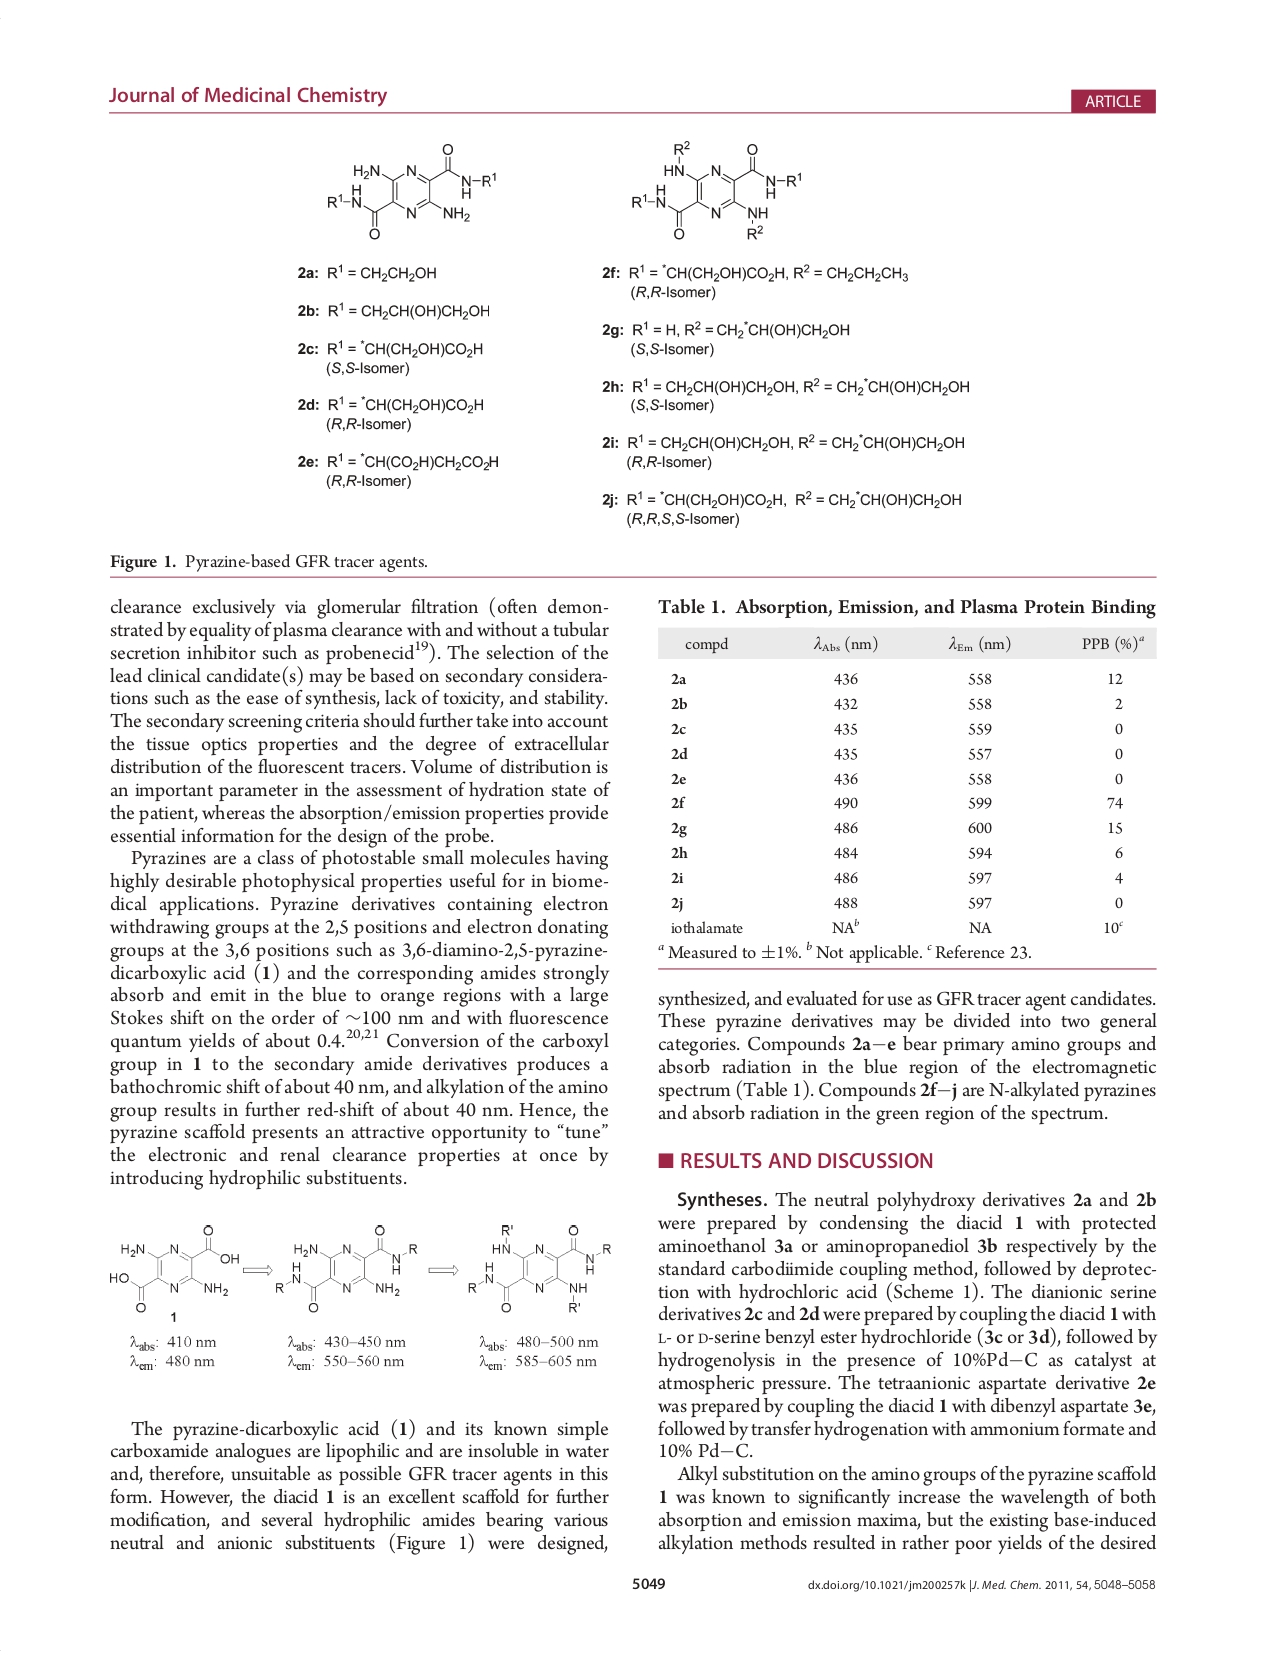exist_molecular: (626, 138, 807, 243), (322, 141, 497, 243), (463, 1220, 614, 1317), (273, 1222, 419, 1314), (105, 1222, 242, 1315)
